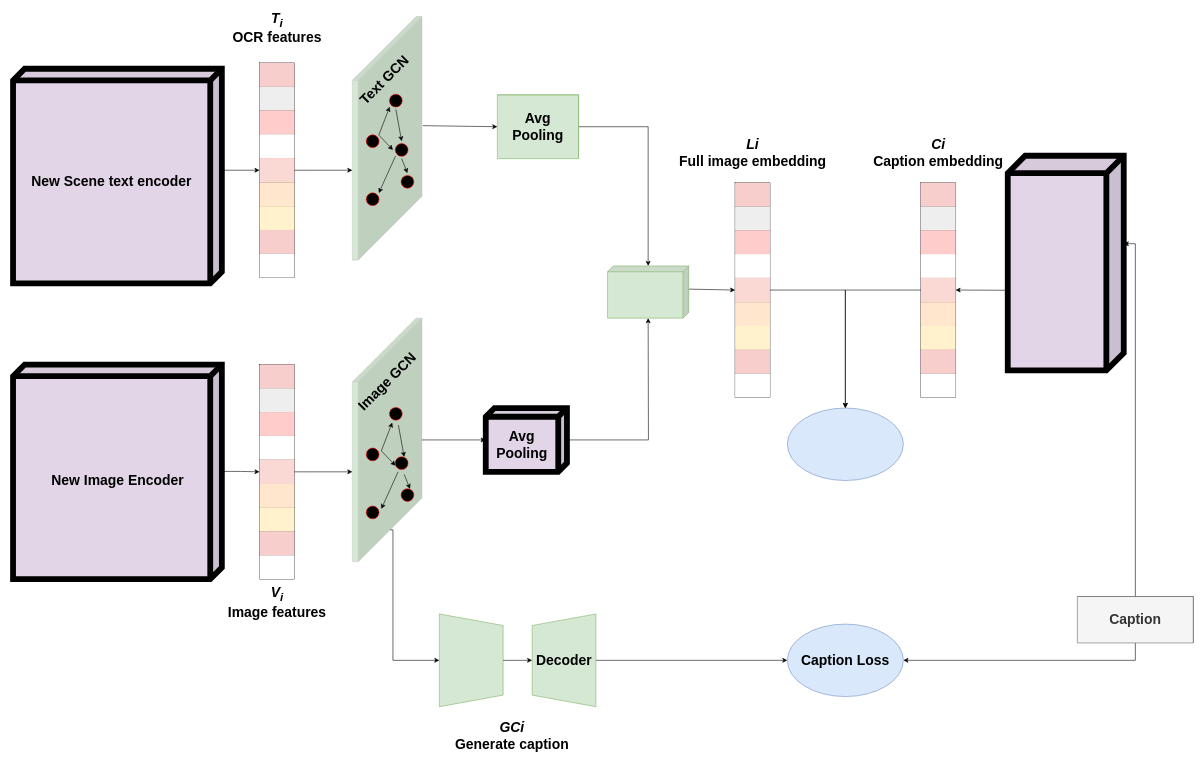
The diagram is 1204 pixels wide and 762 high, and some of its shapes have lost their labels. Each missing label, with the centre of its shape:
"Encoder" goes at (471,660).
"Fusion" goes at (648,291).
"New caption encoder" goes at (1065,263).
"Triplet Loss" goes at (845,444).
